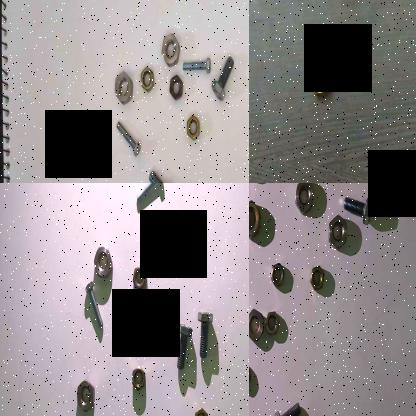Bolts: (210, 51, 235, 109), (194, 304, 216, 362), (129, 183, 167, 216), (84, 280, 106, 335), (115, 118, 143, 160), (342, 190, 372, 228), (174, 316, 192, 374), (180, 49, 214, 75), (270, 399, 300, 416), (146, 167, 174, 183)
NUTS: (110, 64, 134, 112), (72, 372, 98, 416), (90, 240, 114, 282), (157, 30, 183, 68), (311, 67, 333, 104), (136, 61, 156, 100), (326, 212, 346, 250), (128, 360, 148, 396), (164, 72, 186, 104), (292, 183, 312, 215), (182, 113, 203, 142), (128, 263, 148, 293), (263, 308, 281, 336), (310, 262, 326, 292), (249, 306, 262, 342), (249, 196, 259, 240), (269, 260, 284, 288), (191, 398, 207, 416)
